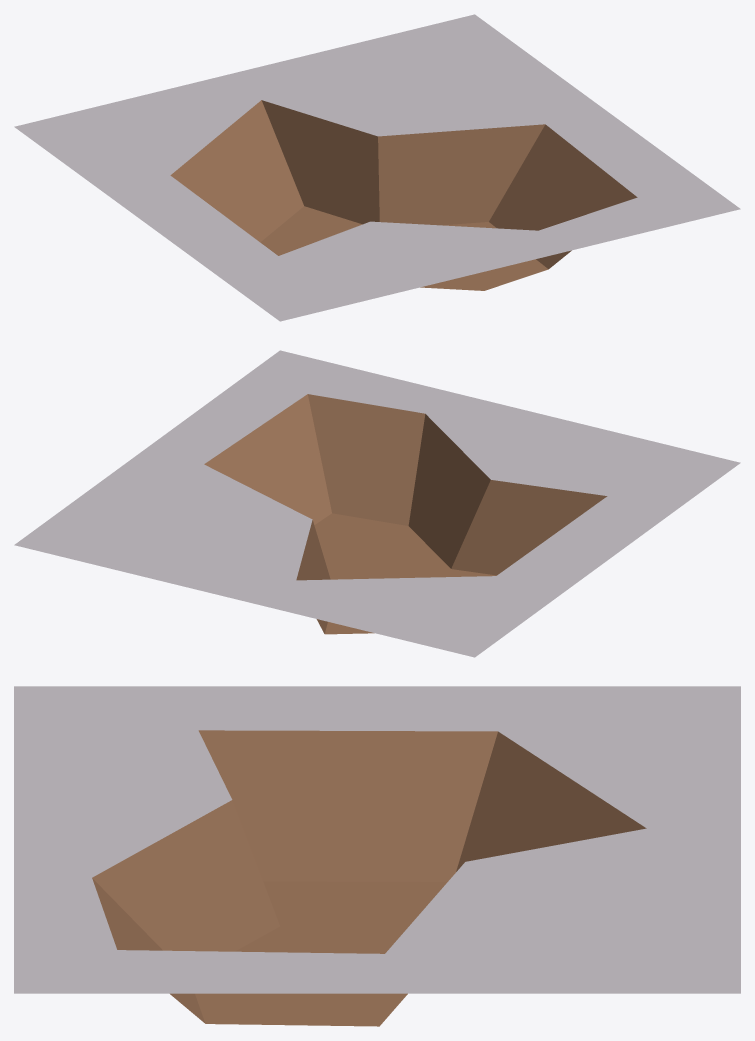
Rendered from floor_hole_free_model.glb.
The picture shows the model from 3 angles, top to bottom: view 1: azimuth 30°, elevation 25°; view 2: azimuth 150°, elevation 25°; view 3: azimuth 270°, elevation 25°; orthographic projection. The views are drawn at different scales.
Parts seen in each view (by area): view 1: FloorHole; view 2: FloorHole; view 3: FloorHole.
Part boxes in pixels (bbox=[...]): FloorHole: bbox=[14, 14, 740, 321]; FloorHole: bbox=[14, 350, 740, 657]; FloorHole: bbox=[14, 686, 740, 1026].
Bounding box in the file's own units: 1.2 × 0.2035 × 1.2.
